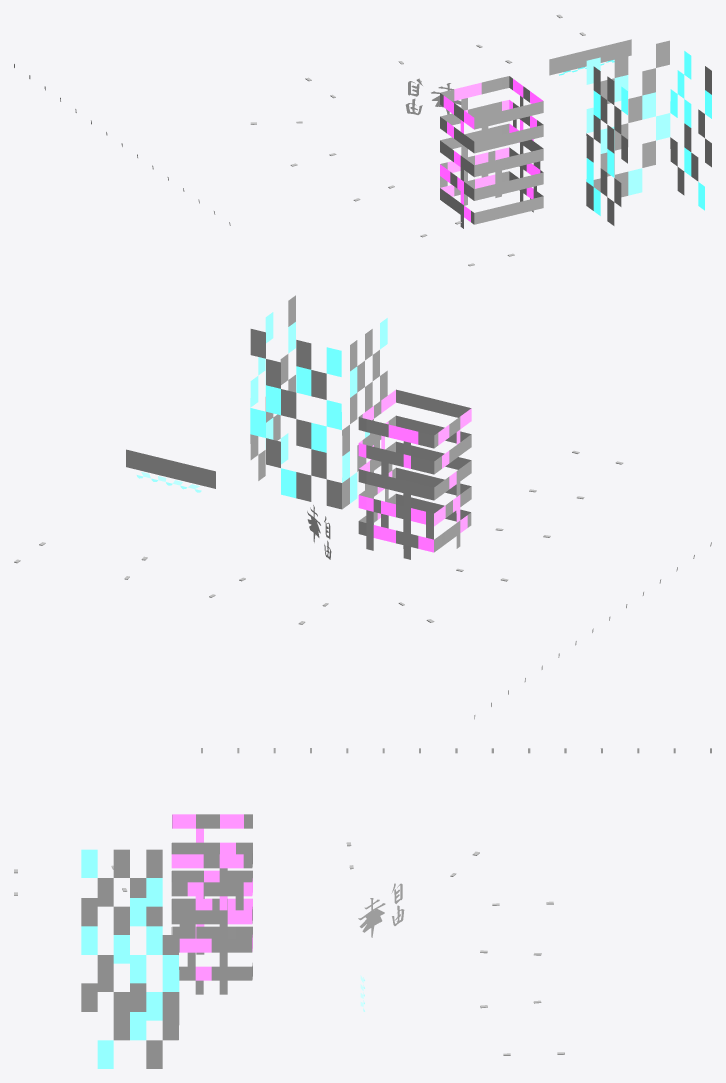
Rendered from L4Light 1.fbx.
3 renders of one model, top to bottom at view 1: azimuth 30°, elevation 25°; view 2: azimuth 150°, elevation 25°; view 3: azimuth 270°, elevation 25°, orthographic. The views are drawn at different scales.
Visible parts, largest first — view 1: Plane.001; view 2: Plane.001; view 3: Plane.001.
Boxes of the visible parts, x1=… form: Plane.001: x1=14, y1=14, x2=711, y2=266; Plane.001: x1=14, y1=295, x2=711, y2=719; Plane.001: x1=14, y1=748, x2=711, y2=1068.
Bounding box in the file's own units: 12319 × 3537 × 13044.
